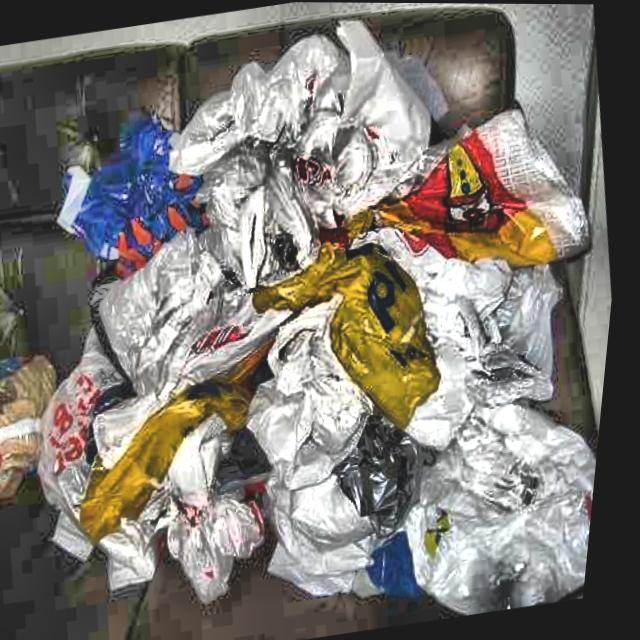Plastic: (386, 376, 612, 624), (393, 111, 617, 300), (280, 8, 455, 234), (230, 286, 397, 491), (17, 338, 166, 564), (76, 210, 249, 393), (187, 122, 352, 313), (134, 408, 284, 611)
